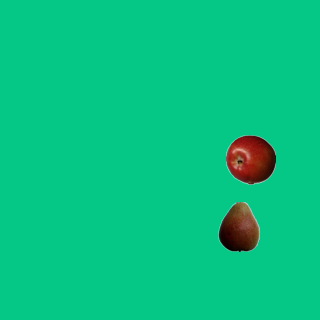Apple Braeburn: (225, 134, 275, 184)
Pear Forelle: (213, 201, 263, 251)
